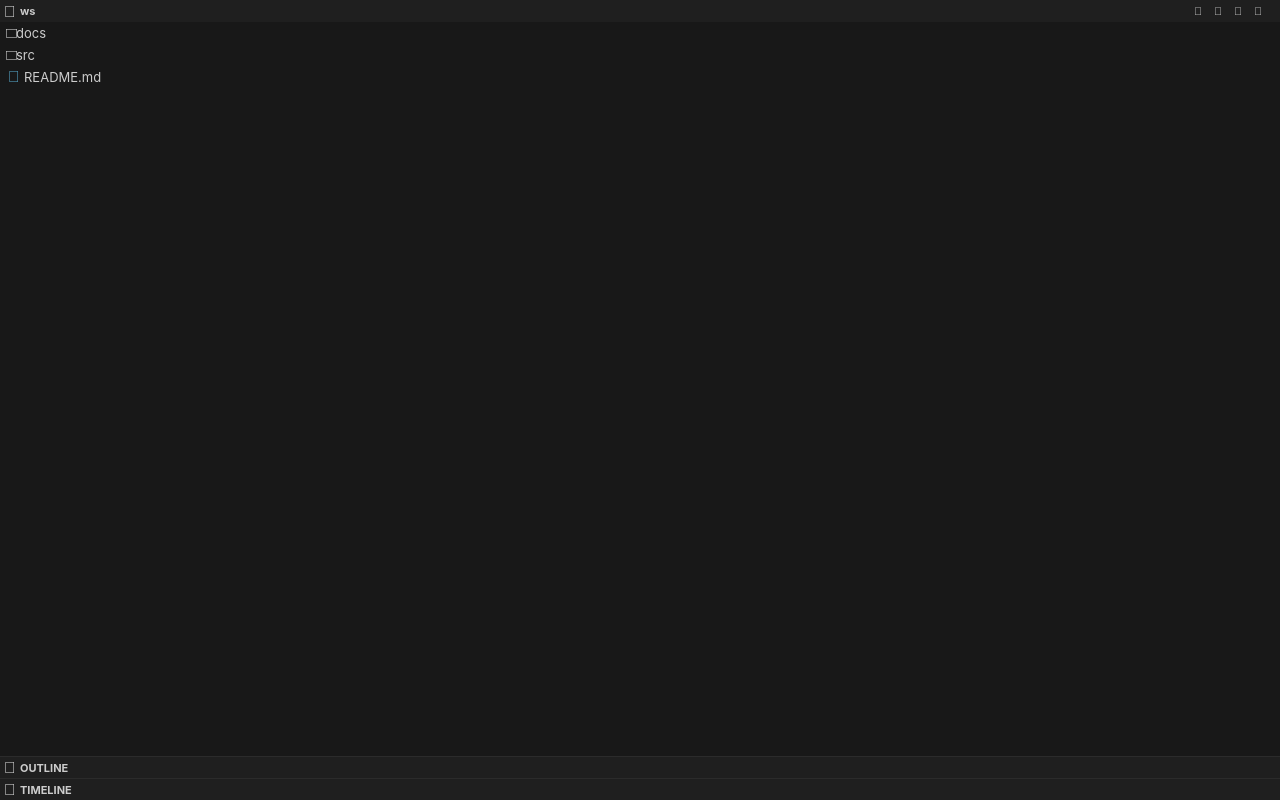
Test case: ExplorerView — árvore lazy (VAL-EXP-01/A2.1) › expandir lê UMA vez; colapsar+re-expandir NÃO relê
This screenshot has width=1280, height=800.
Expected: the text "README.md" is shown, [24,69,101,85]
Click the text "docs".
click(31, 33)  # box [16,25,46,41]
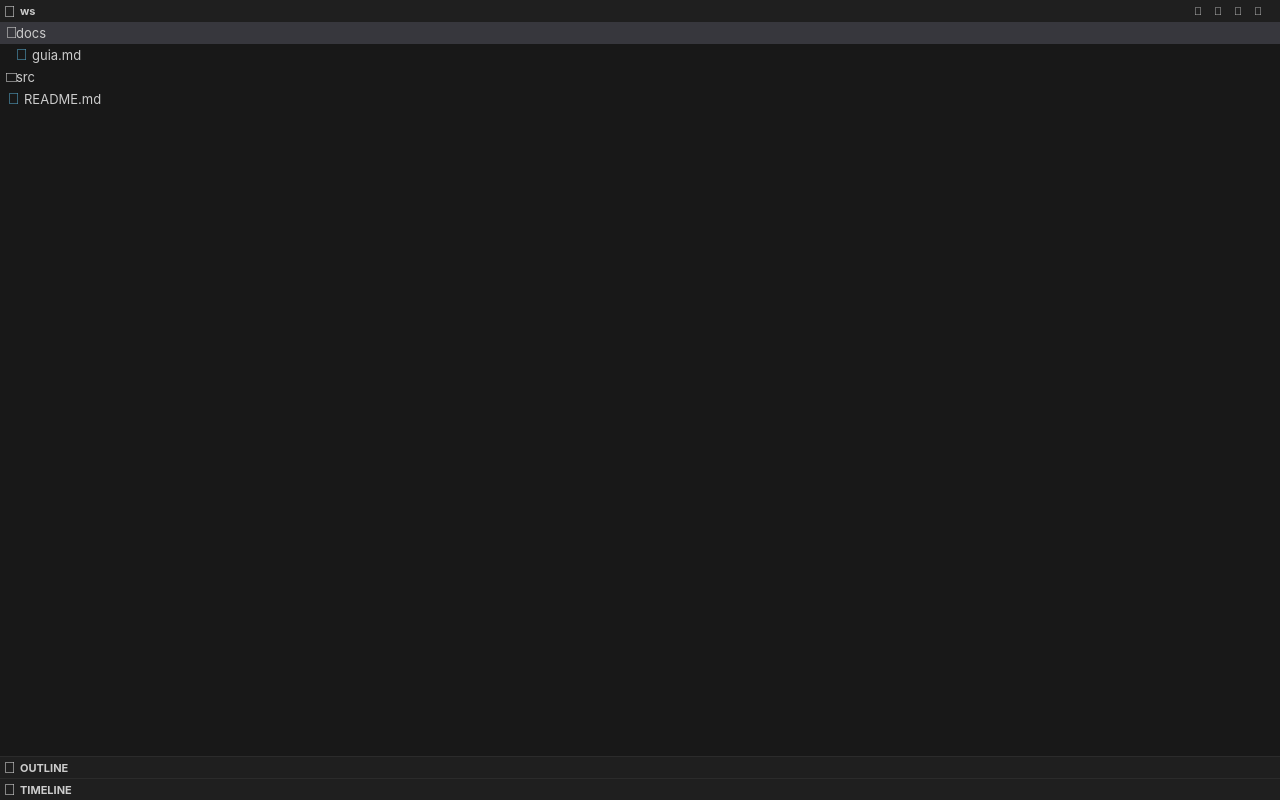
Expected: the text "guia.md" is shown, [32,47,81,63]
Click the text "docs".
click(31, 33)  # box [16,25,46,41]
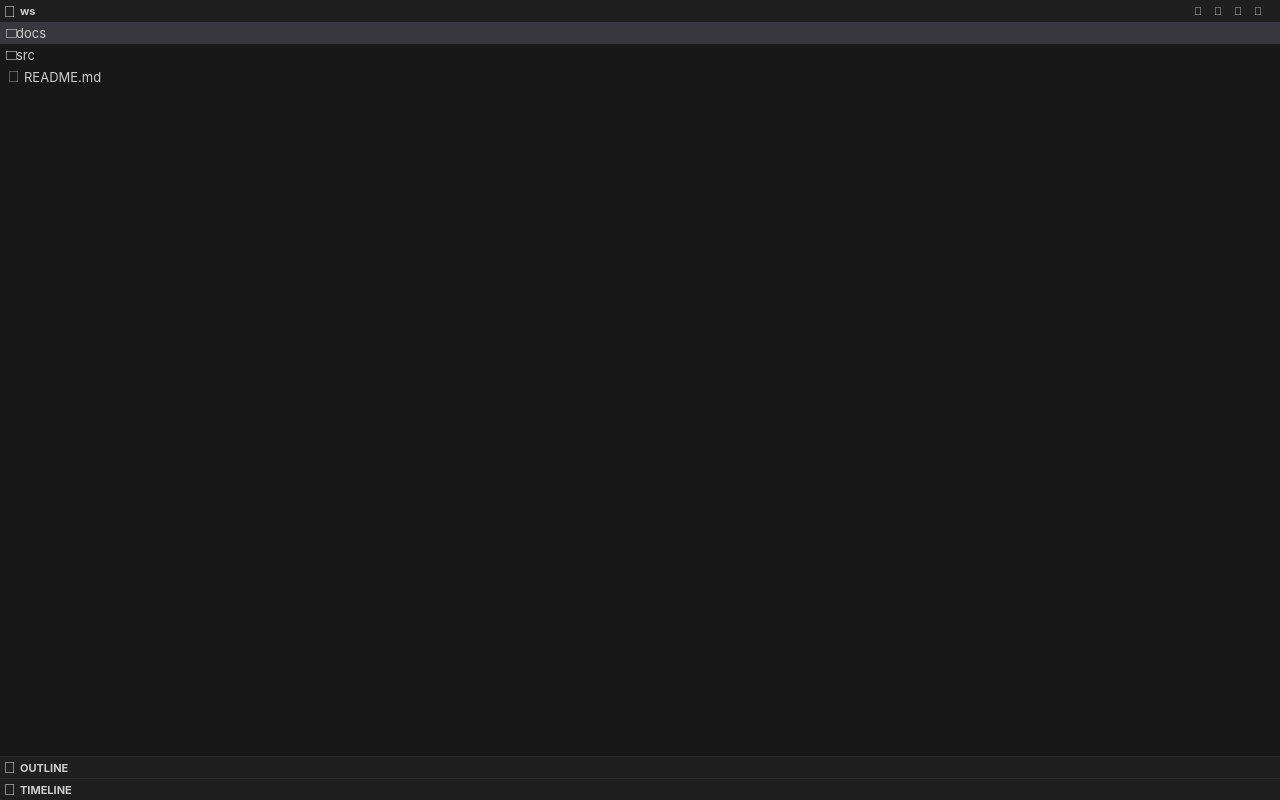
Expected: the text "guia.md" is gone
// re-expande: cache — list NÃO aumenta
Click the text "docs".
click(31, 33)  # box [16,25,46,41]
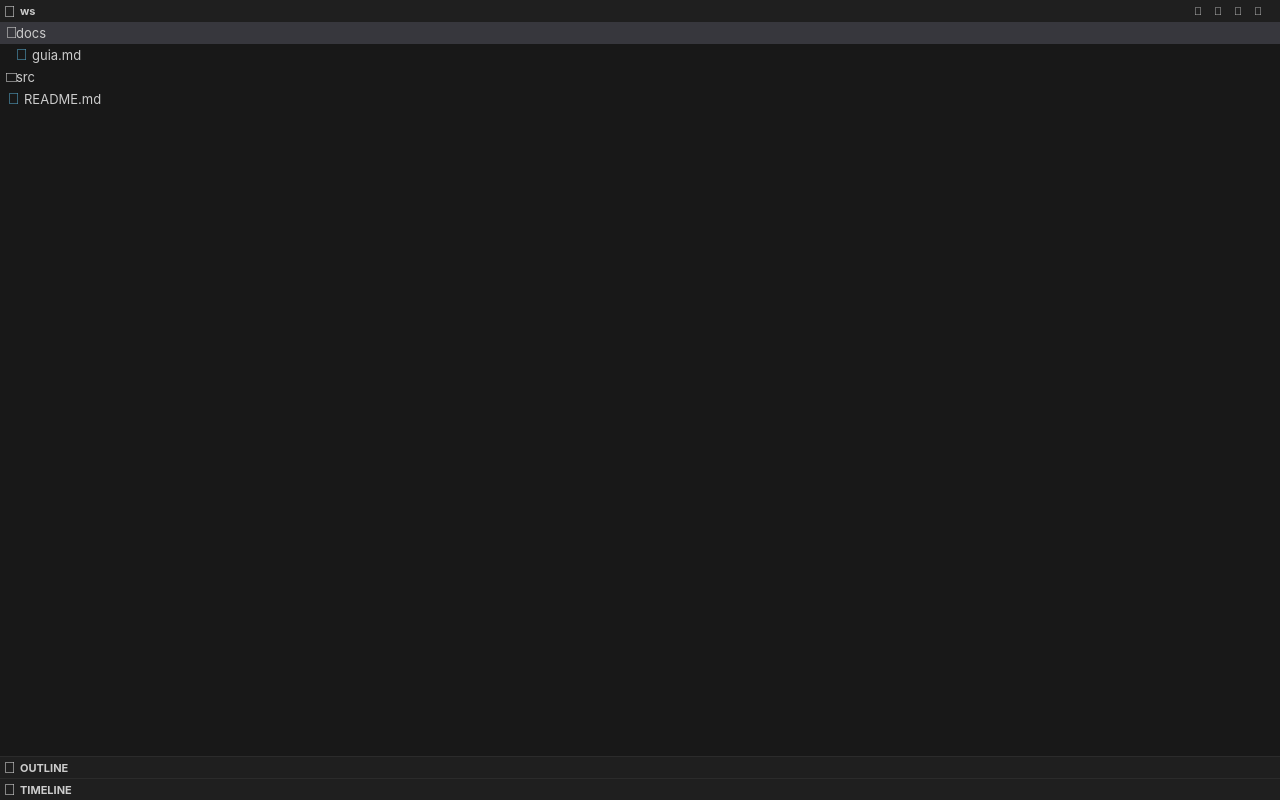
Expected: the text "guia.md" is shown, [32,47,81,63]
